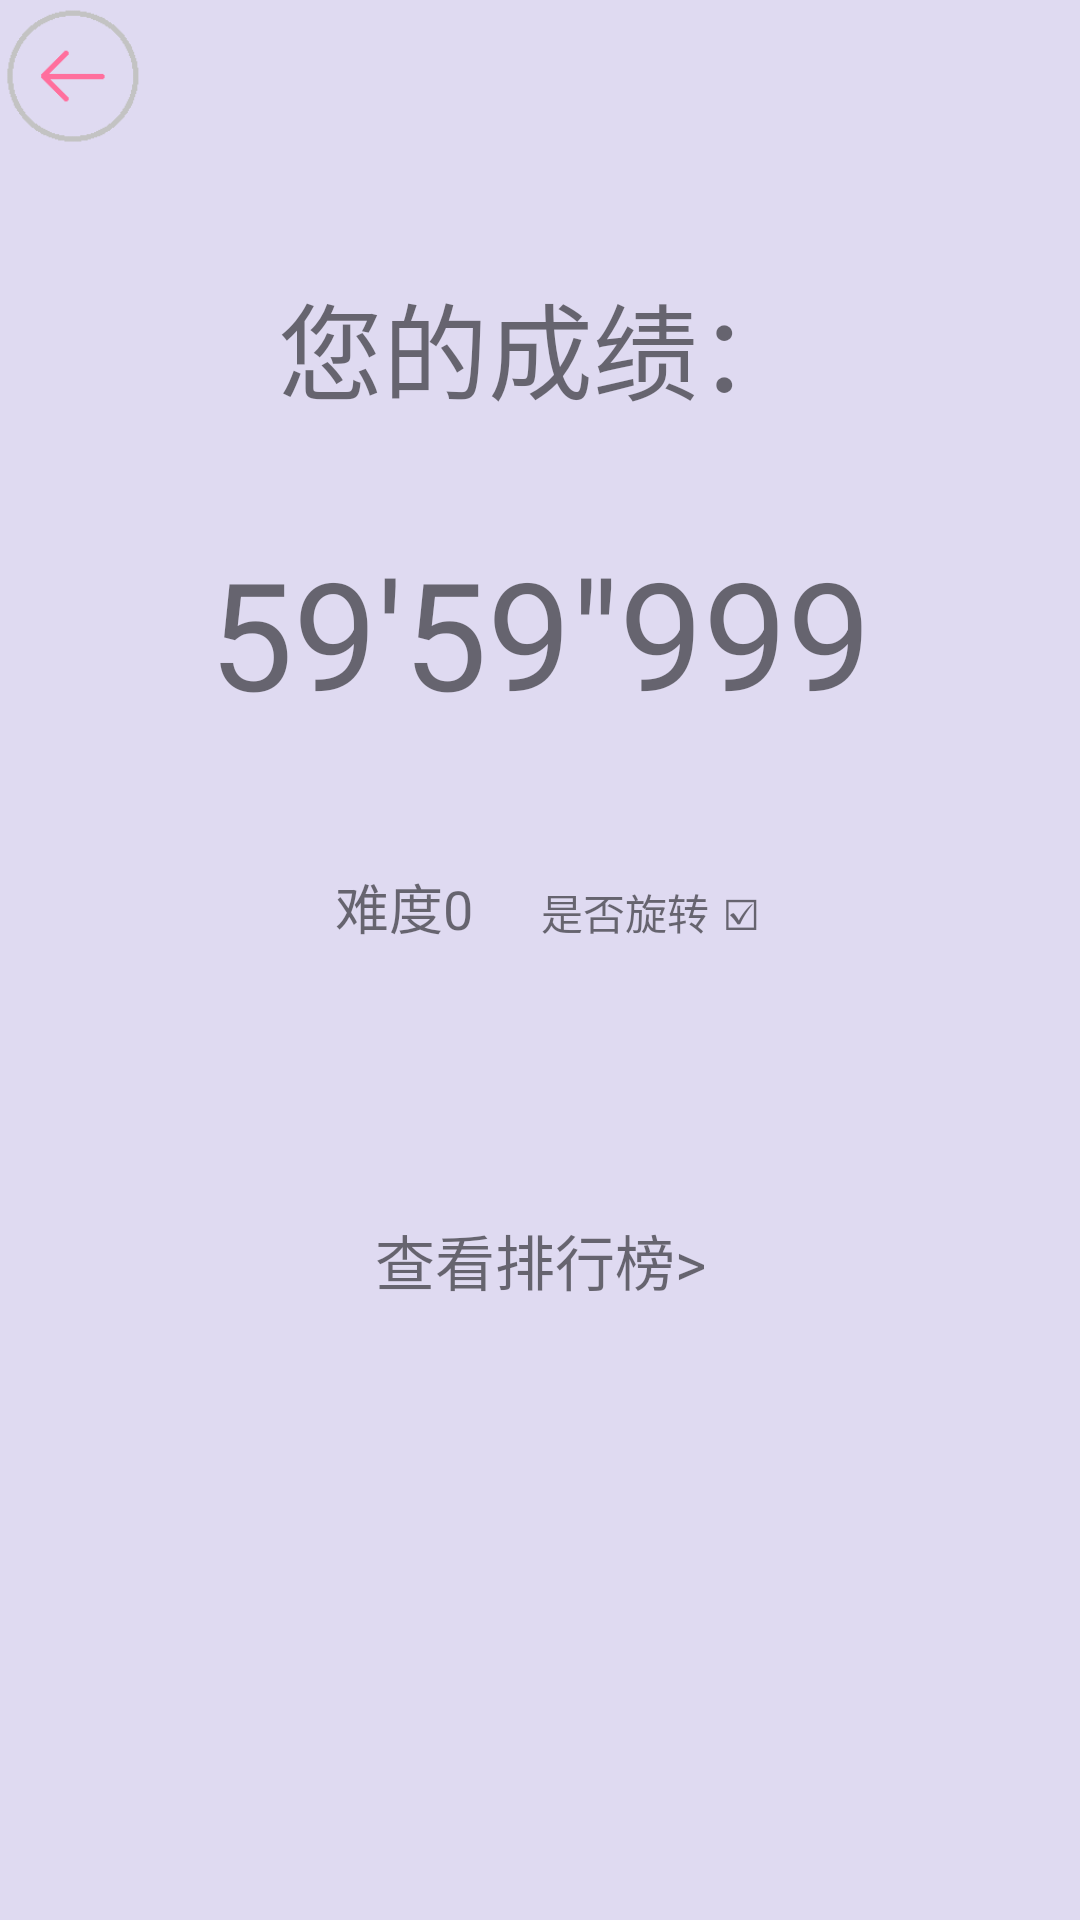

Point at icon controls on the screen. Image size 1080w x 1920h, points as (x=x, y=y).
backbtn: (x=72, y=76)
